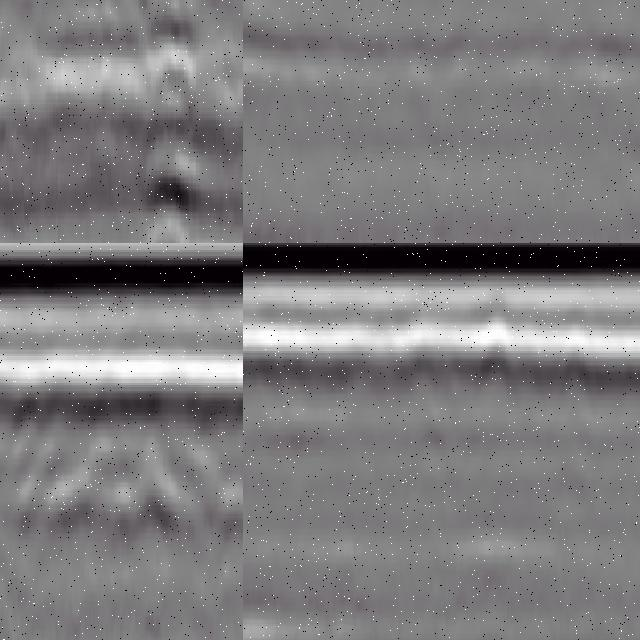crack: (148, 1, 192, 244)
loose: (1, 379, 244, 537)
